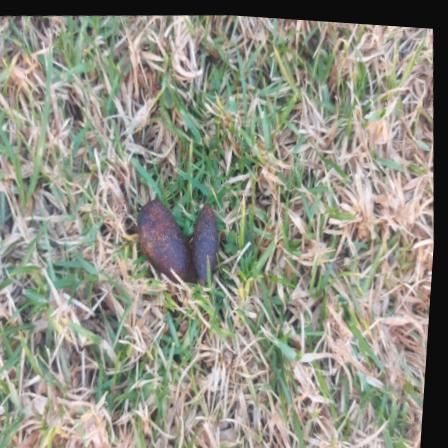dog-poop: (128, 182, 237, 299)
